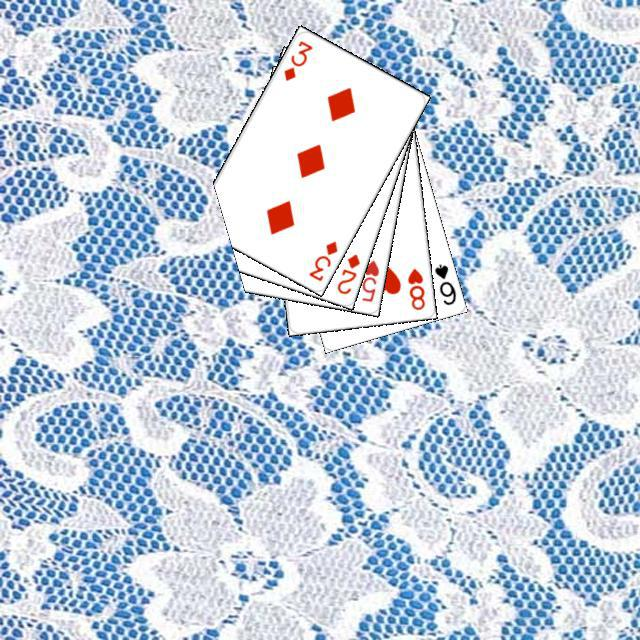2d: (332, 249, 362, 296)
3d: (303, 236, 339, 283), (279, 35, 314, 83)
5h: (357, 255, 381, 304)
6s: (429, 259, 458, 307)
8h: (402, 264, 427, 312)
